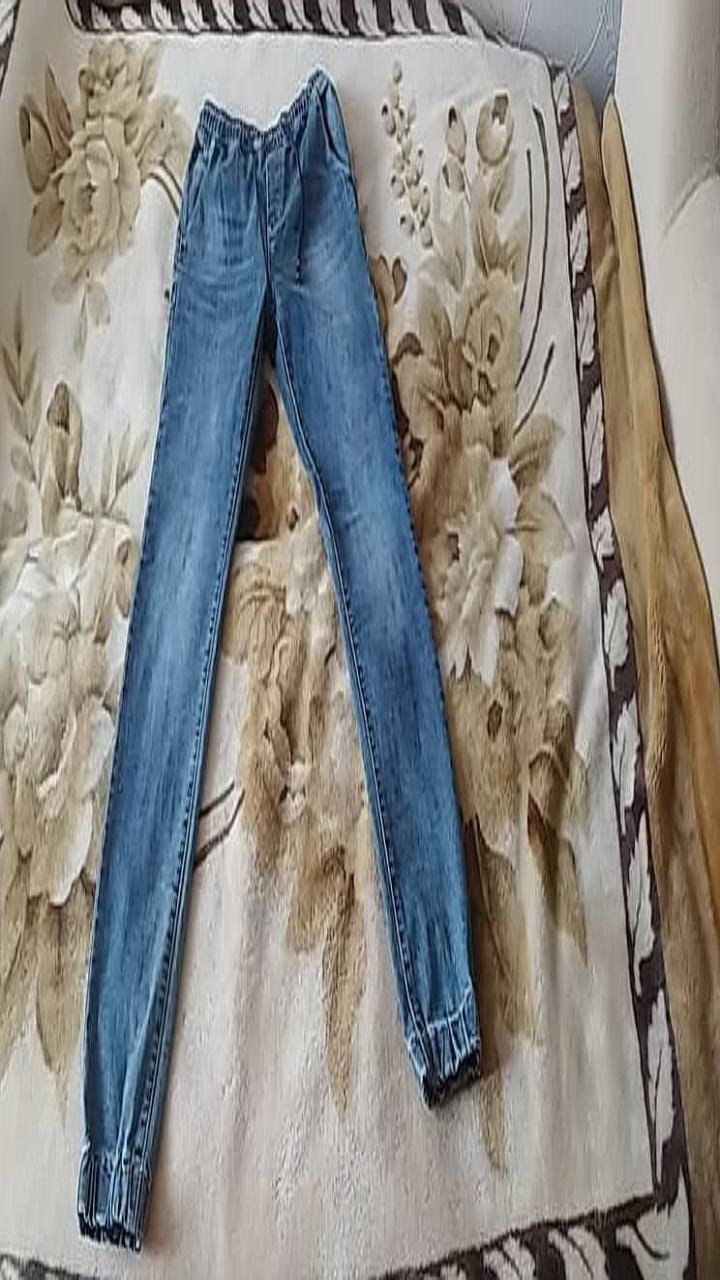Jeans: (78, 73, 478, 1246)
